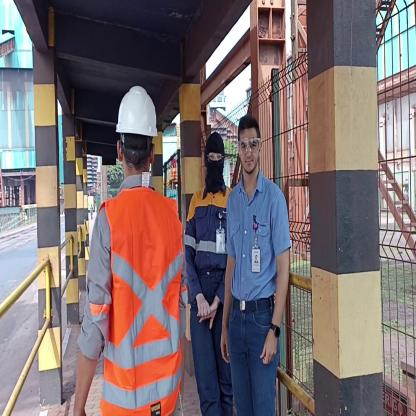Balaclava: (201, 128, 226, 191)
Capacete: (116, 81, 157, 134)
Operacional: (185, 192, 229, 269)
colete: (97, 188, 187, 416)
